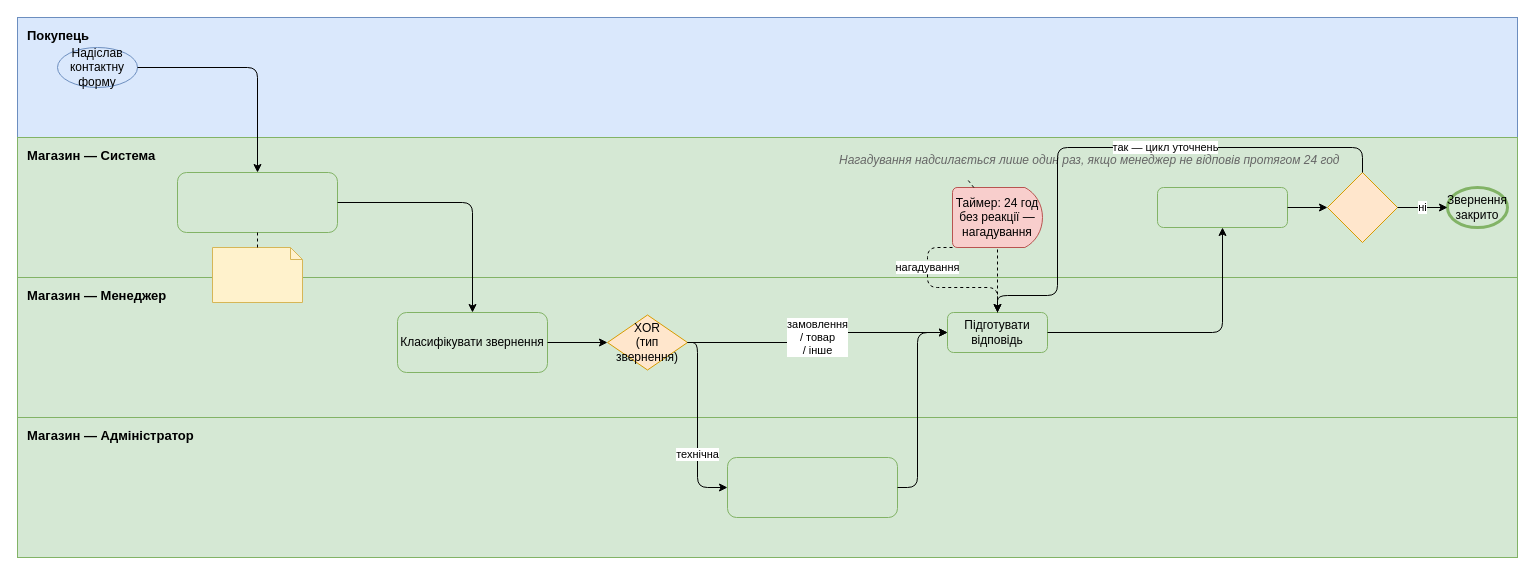
Image size: 1535x575. Some labels were removed from this diagram. The centre of each missing label's shape, as x and y in pixels:
XOR (за подіями: відповів за 3 дні?): [1362,207]
Зареєструвати звернення й надіслати автовідповідь: [257,202]
Звернення (тікет): [257,274]
Надіслати відповідь (кабінет + email): [1222,207]
Передати технічне звернення адміністратору: [812,487]
